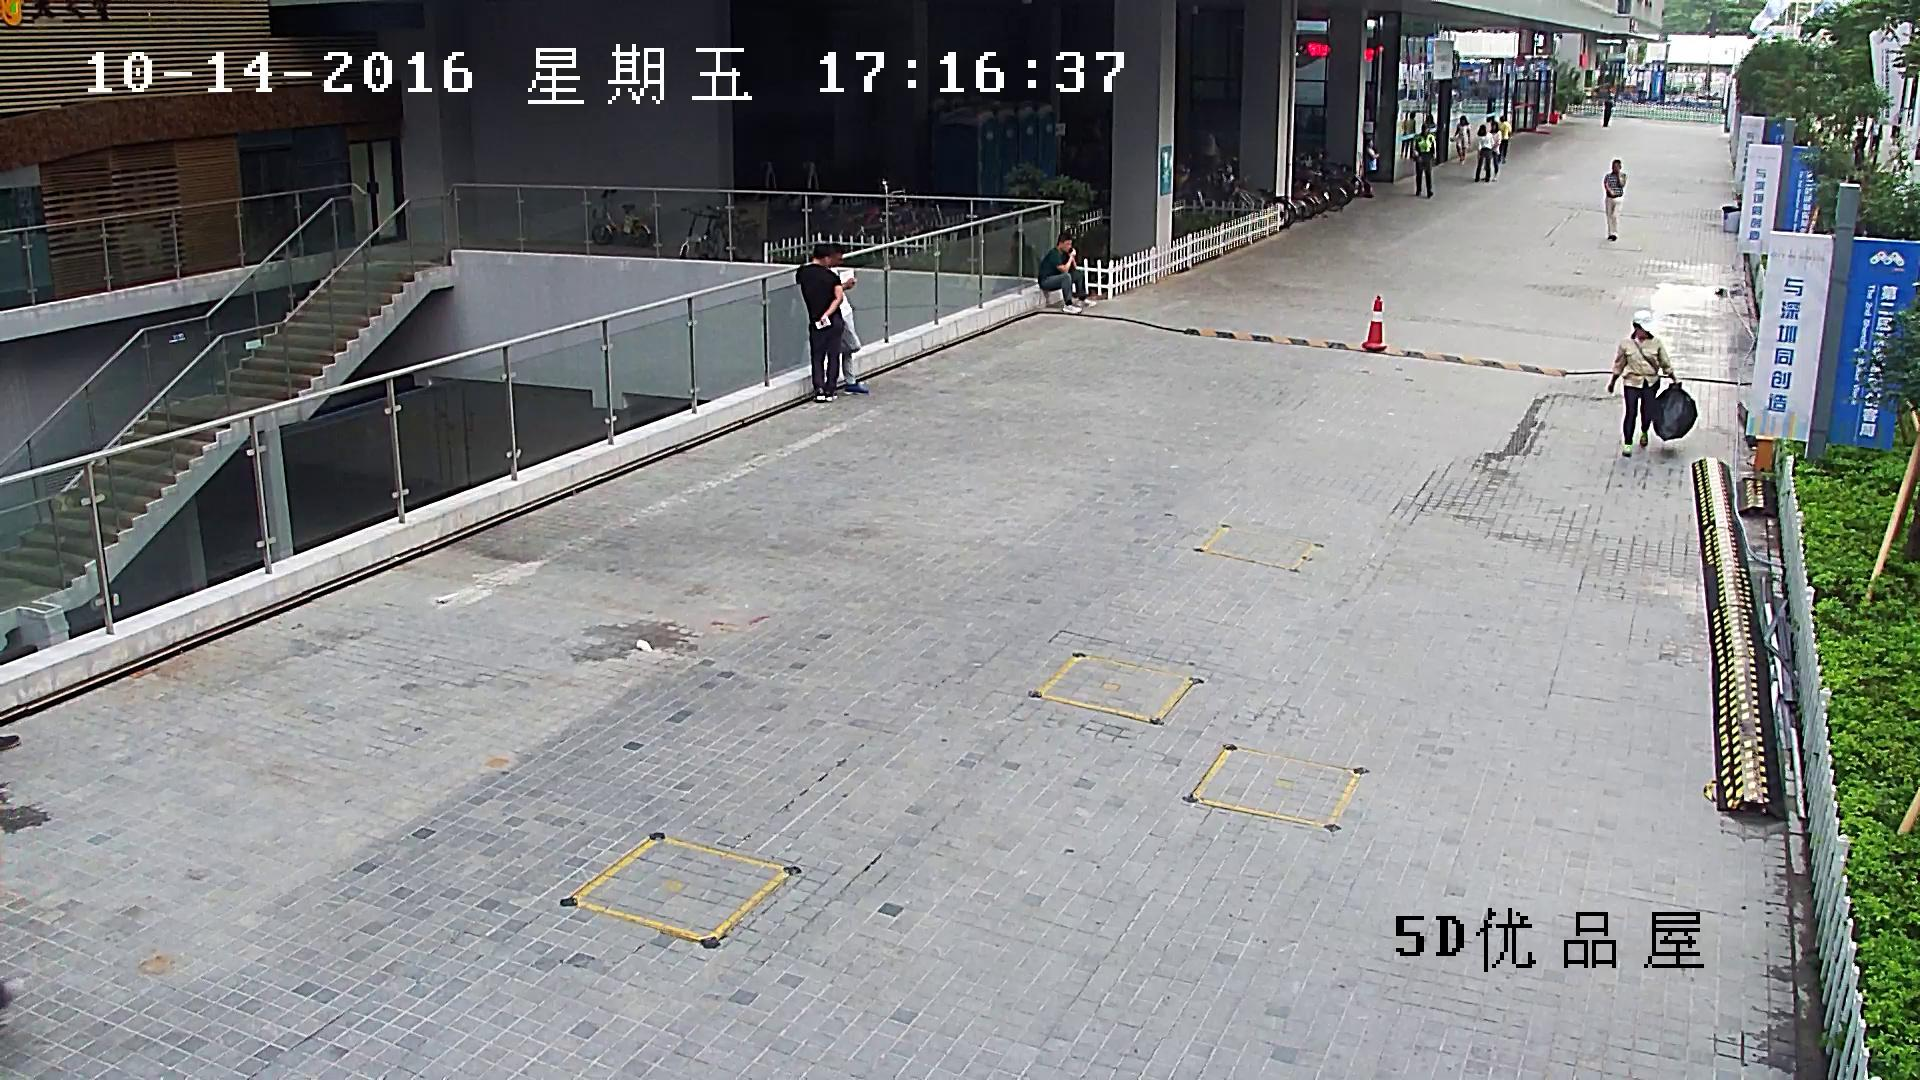person: (1607, 308, 1698, 457), (1608, 309, 1675, 457), (795, 242, 844, 400), (829, 243, 870, 395), (1038, 231, 1098, 313), (1604, 160, 1626, 241), (1413, 124, 1434, 197), (1449, 115, 1471, 165), (1474, 123, 1492, 183), (1489, 120, 1501, 178), (1364, 139, 1379, 178), (1498, 116, 1510, 163), (1406, 111, 1415, 159), (1868, 118, 1881, 152), (1401, 111, 1408, 158), (1855, 129, 1867, 159), (1423, 115, 1436, 133), (1603, 101, 1612, 127)
